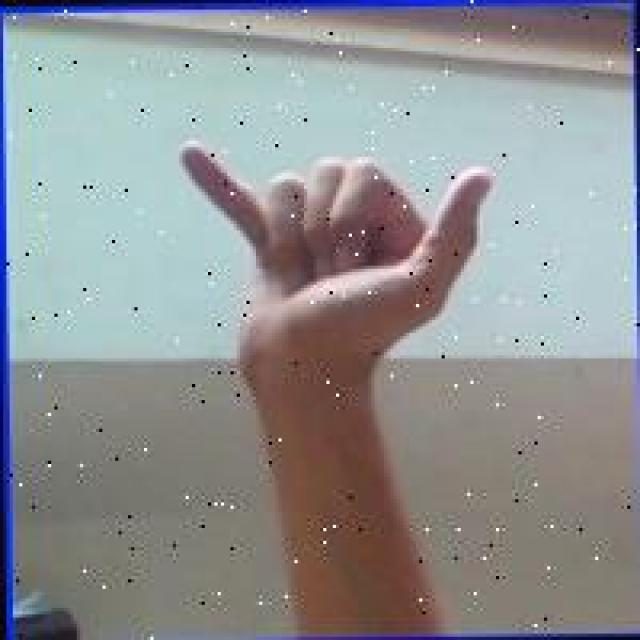Y: (170, 130, 492, 402)
